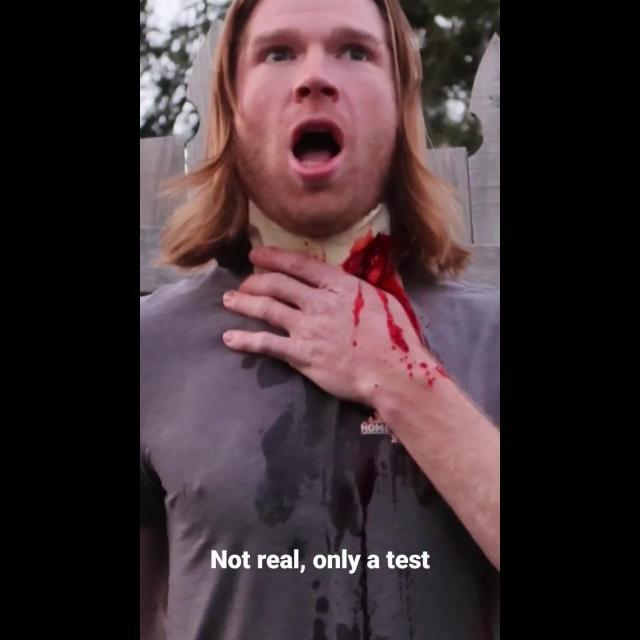blood: (342, 234, 424, 344), (375, 288, 410, 354), (415, 336, 450, 379), (351, 280, 364, 348), (420, 361, 436, 388), (407, 364, 414, 378)
